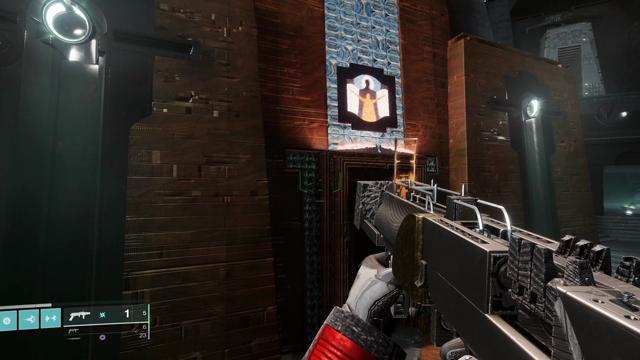worship: (347, 75, 389, 122)
